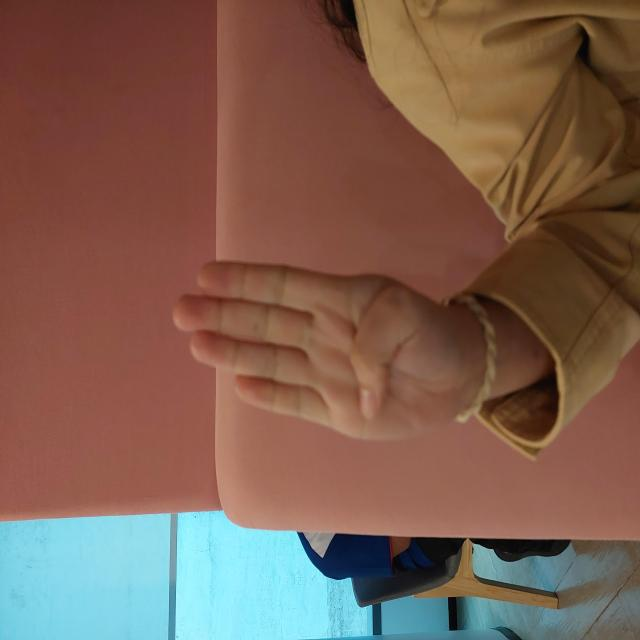B: (193, 165, 384, 484)
